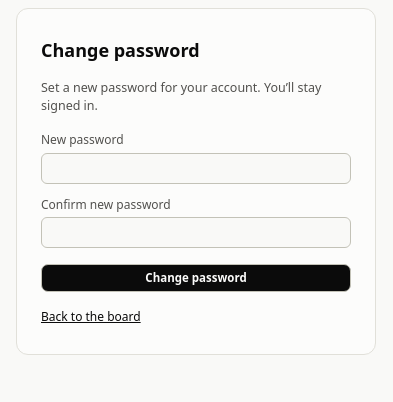
Test: the change screen changes the password and stays put › C1 ⭐: a successful change shows a sentence and does NOT navigate
Step 1. Type "newpassword" into the password field labelled "New password" → x=196, y=168, box [41,153,351,184]
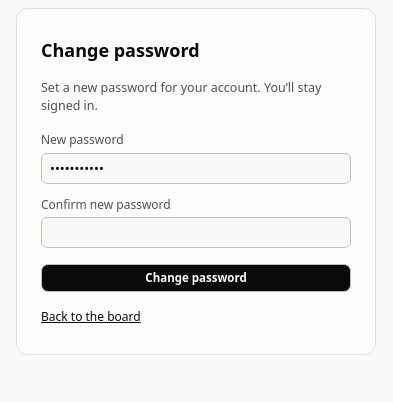
Step 2. Type "newpassword" into the password field labelled "Confirm new password" → x=196, y=232, box [41,217,351,248]
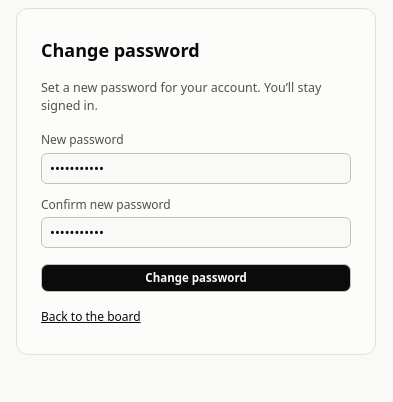
Step 3. Click the button "Change password" → x=196, y=278, box [41,264,351,292]
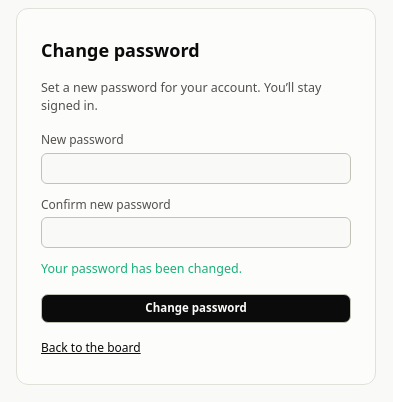
Check: the text "Your password has been changed." is shown, box [41,260,242,277]
